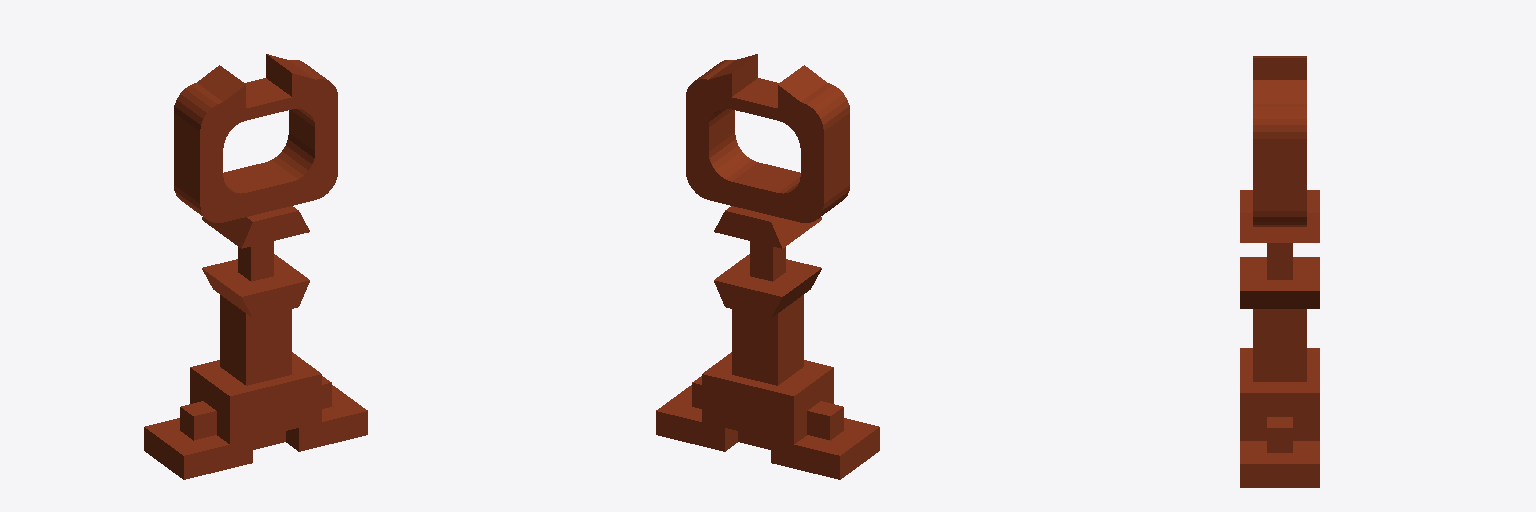
3 views of the same model, side by side, from view 1: azimuth 30°, elevation 25°; view 2: azimuth 150°, elevation 25°; view 3: azimuth 270°, elevation 25° (orthographic).
Bounding box in the file's own units: 8 × 15.5 × 3.
1 materials, 1 textured.